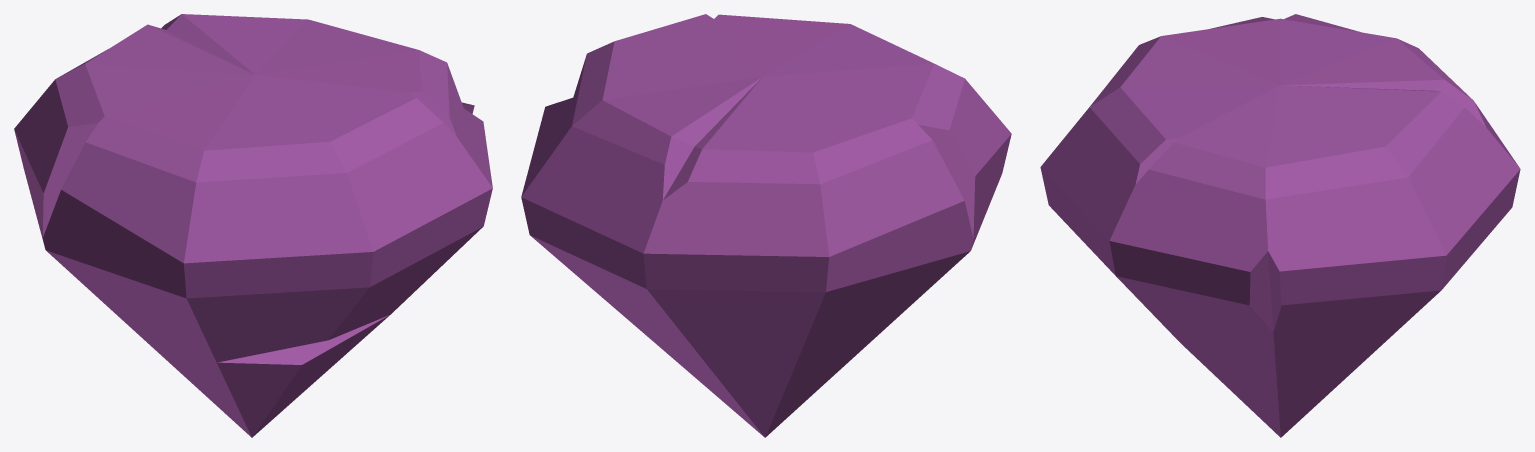
File: diamond.fbx
3 views of the same model, side by side, from view 1: azimuth 30°, elevation 25°; view 2: azimuth 150°, elevation 25°; view 3: azimuth 270°, elevation 25° (orthographic). The views are drawn at different scales.
Parts seen in each view (by area): view 1: Cylinder; view 2: Cylinder; view 3: Cylinder.
Part boxes in pixels (bbox=[...]): Cylinder: bbox=[14, 14, 492, 437]; Cylinder: bbox=[521, 14, 1011, 437]; Cylinder: bbox=[1040, 14, 1520, 437].
Bounding box in the file's own units: 37.22 × 29.89 × 36.75.
